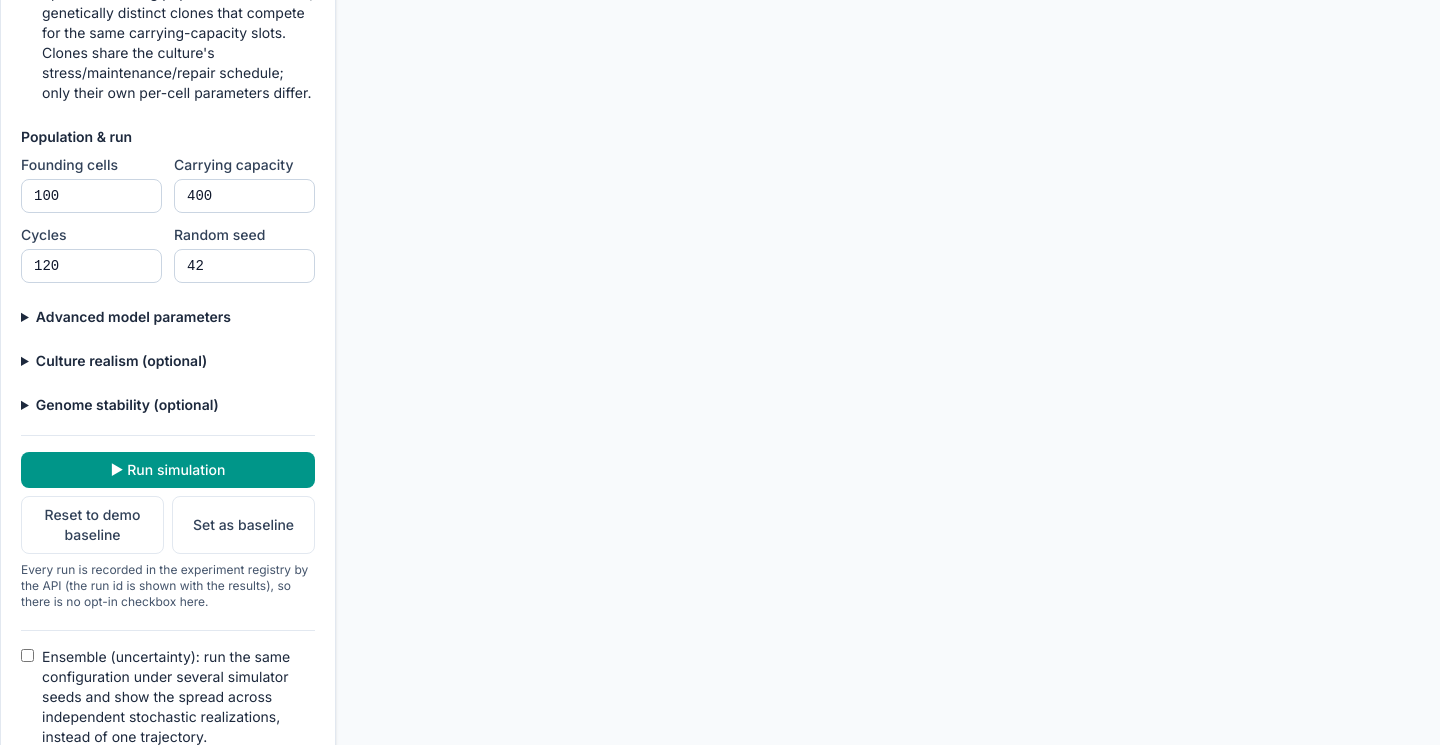
Test case: Simulate page › shows the synthetic age index gauge with its disclaimer next to a successful run (ROADMAP.md #5)
This screenshot has width=1440, height=745.
(page scrolled)
Click the button "▶ Run simulation" at (168, 470), box [21,452,315,488]
(page scrolled)
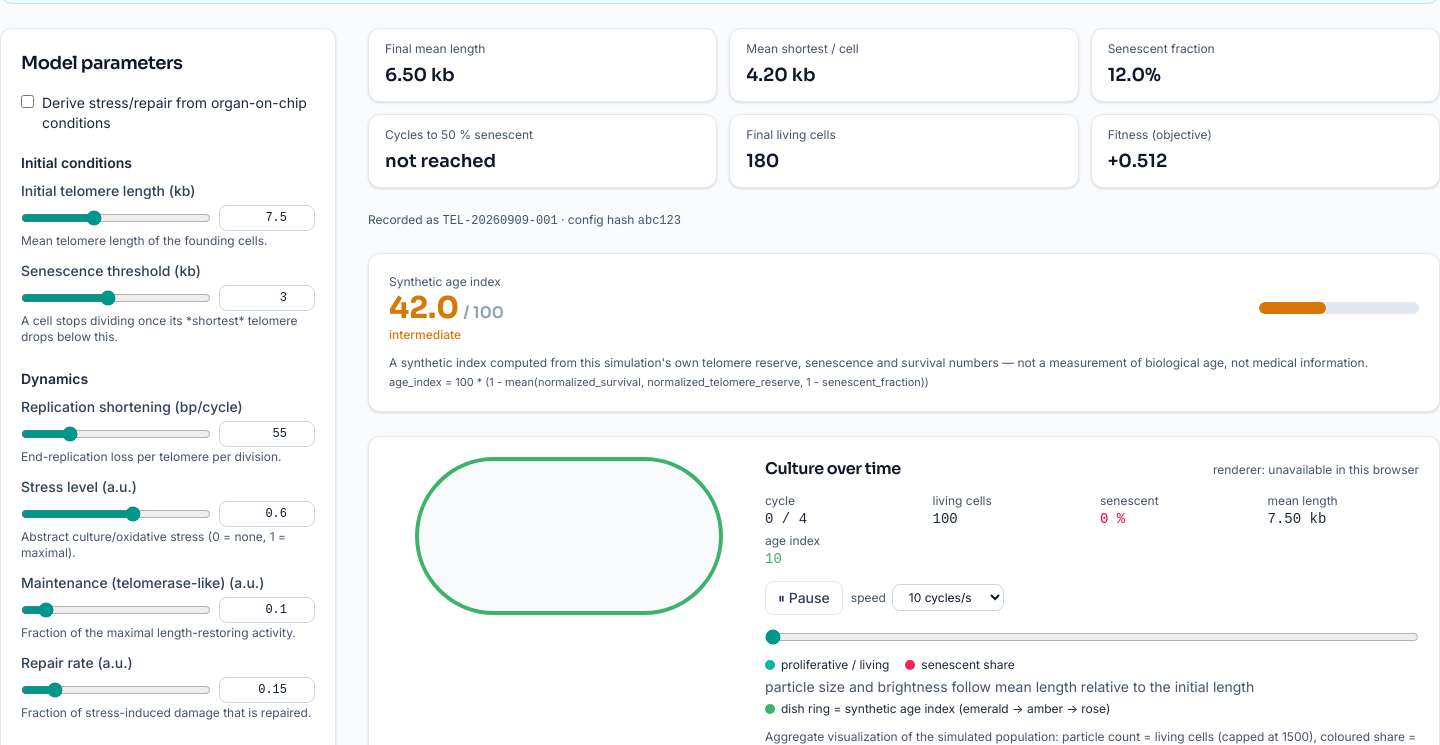
Now the element with test id "biological-age-gauge" is shown, box [368,252,1439,412]
Now the element with test id "biological-age-value" shows "42.0", box [389,288,459,326]
Now the text with test id "biological-age-disclaimer" shows "not a measurement of biological age, not medical information.", box [389,355,1368,370]
